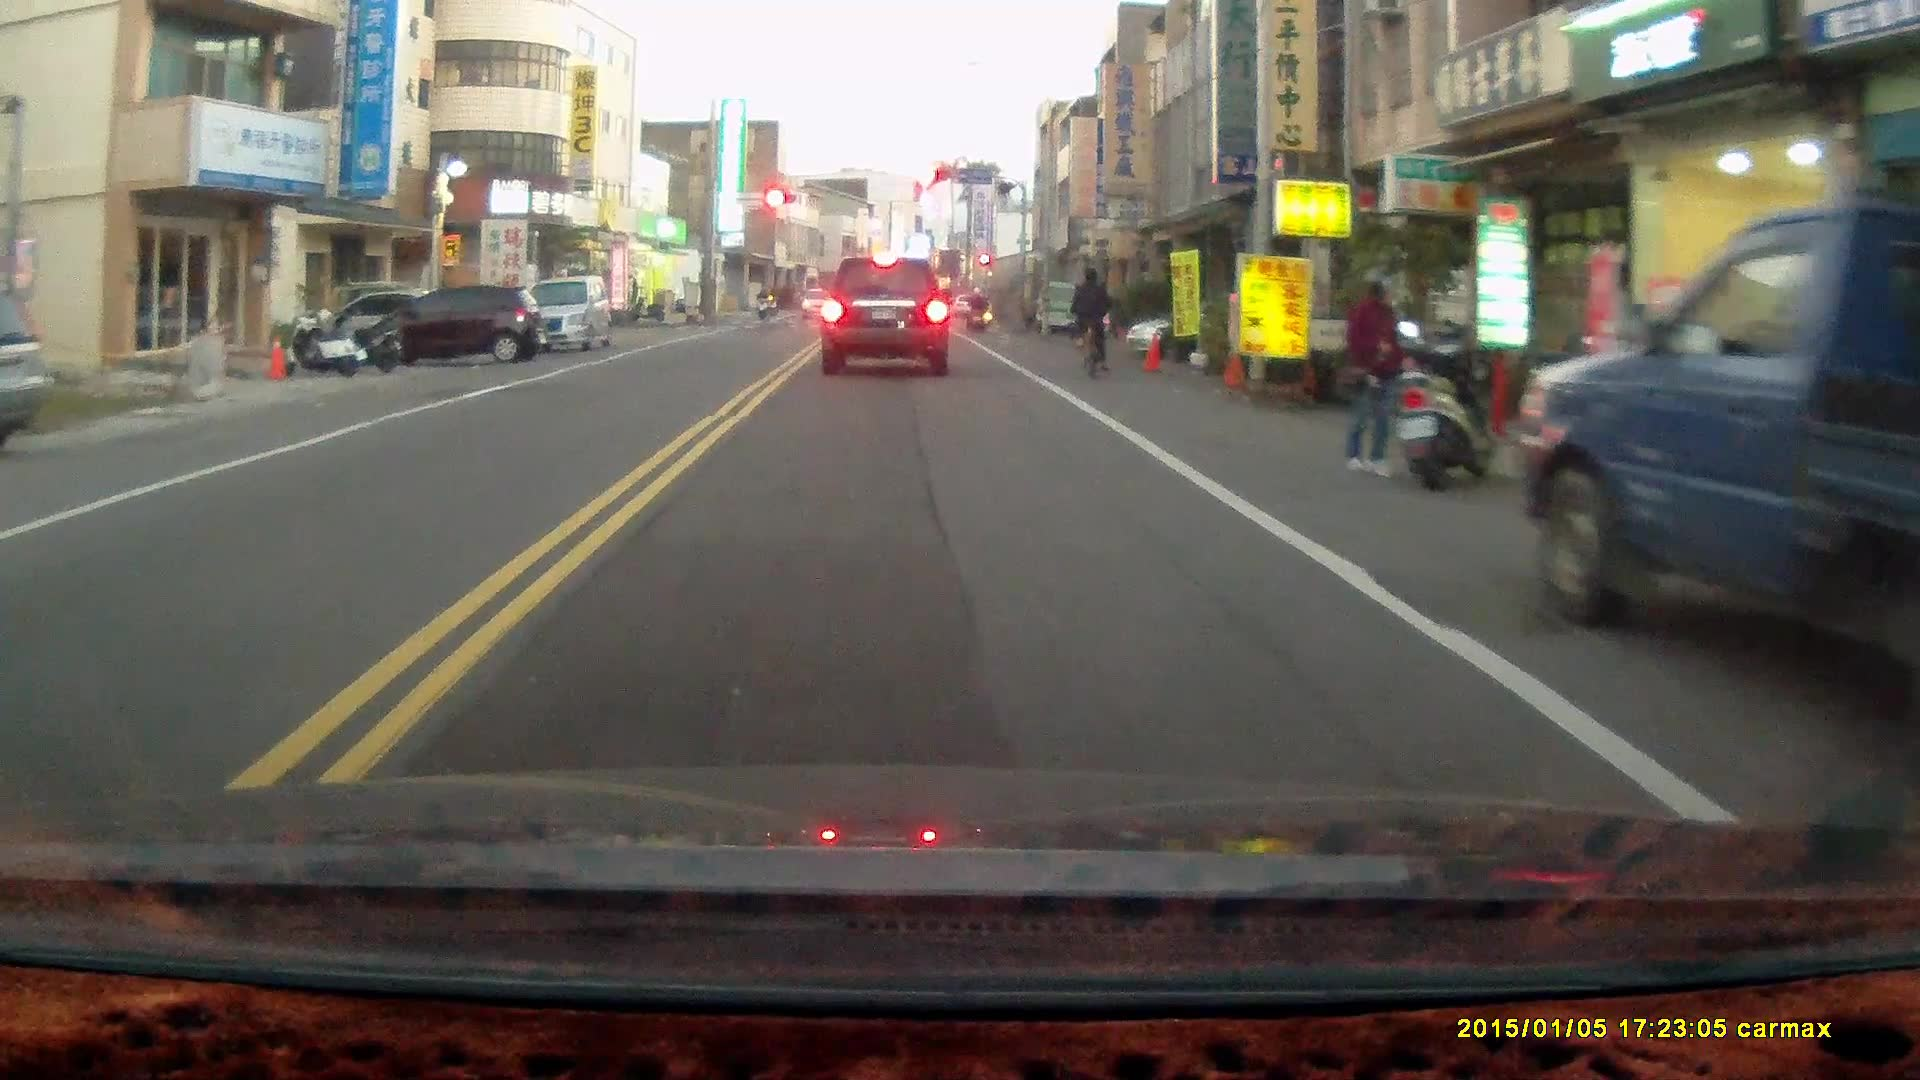pedestrian: (1341, 276, 1408, 477)
rider: (1069, 266, 1114, 378), (965, 285, 987, 335), (753, 282, 773, 320)
vehicle: (1513, 198, 1920, 710), (819, 258, 955, 379), (369, 283, 549, 372), (506, 274, 618, 359), (0, 277, 53, 453)
